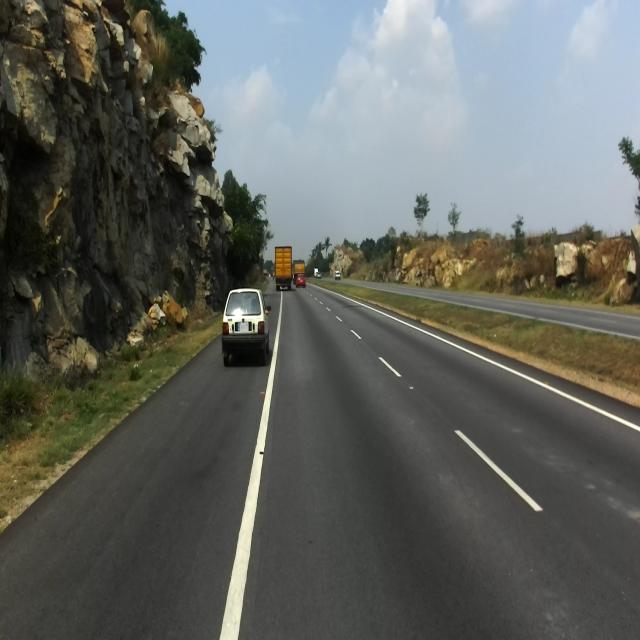Car: (295, 273, 305, 287)
Car_Maruti-Suzuki: (222, 287, 271, 365)
truck: (274, 245, 292, 291), (293, 262, 305, 284)
